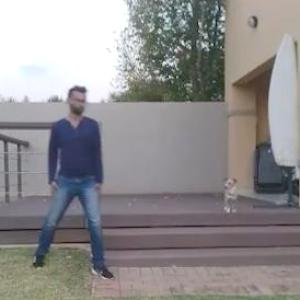follow: (43, 85, 97, 260)
